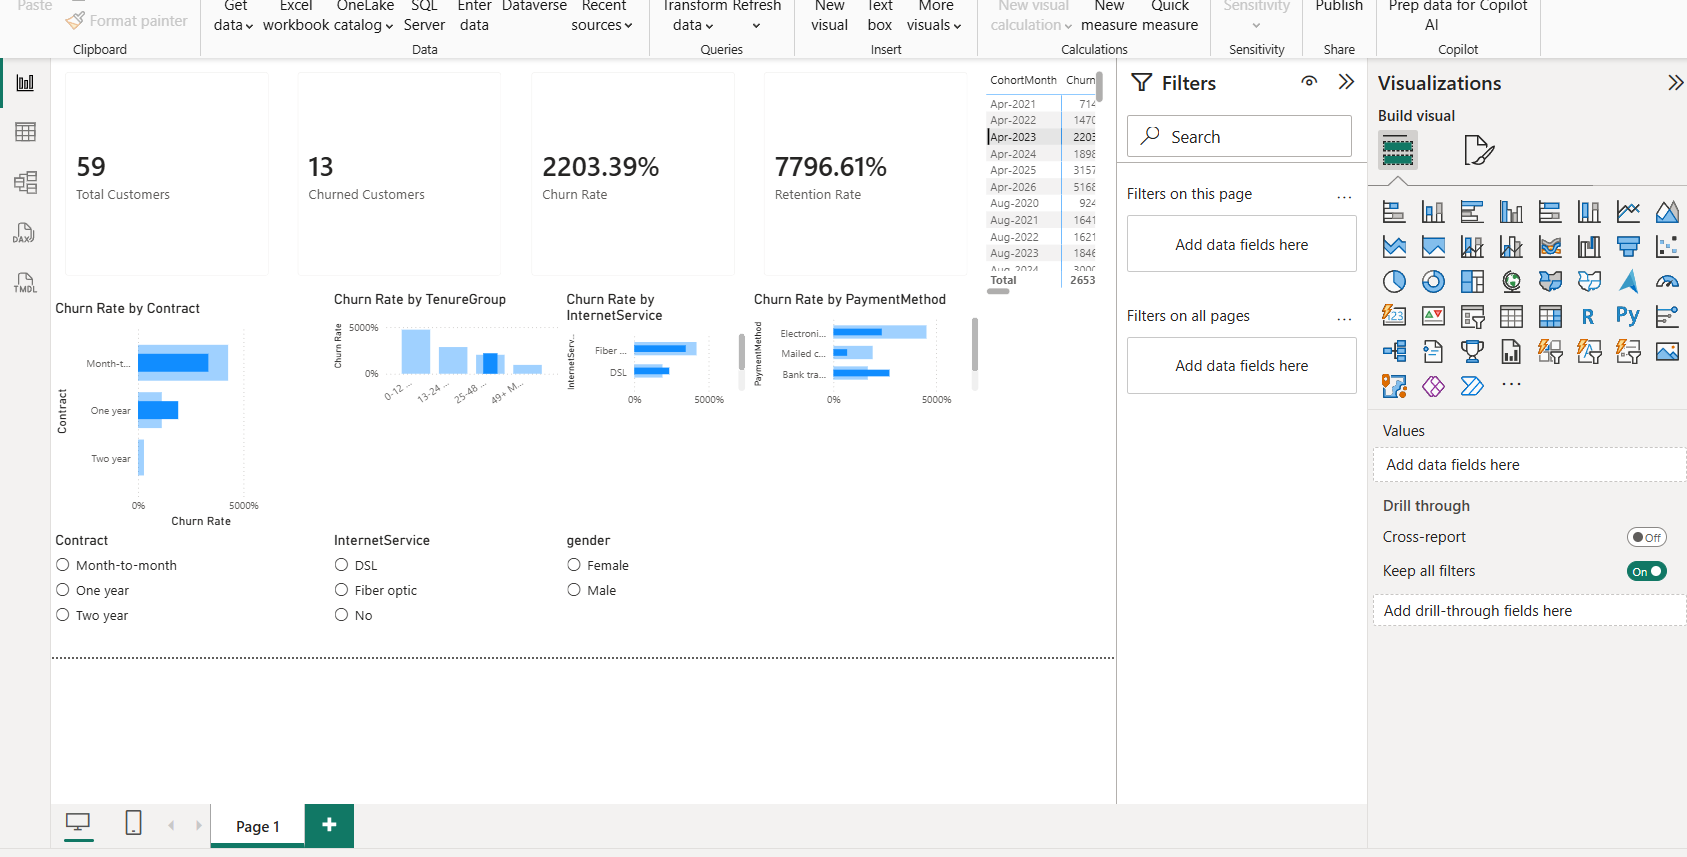

The page's visual inventory and layout, read from the dashboard file:
{"tool":"powerbi","page":{"name":"Page 1","canvas":[1280,720],"ordinal":0},"visuals":[{"type":"cardVisual","fields":{"Data":["TelcoChurn.Total Customers"]},"box":[0,0,279.9,279.9],"z":0},{"type":"cardVisual","fields":{"Data":["TelcoChurn.Churned Customers"]},"box":[332.1,0,281,279.5],"z":1000},{"type":"cardVisual","fields":{"Data":["TelcoChurn.Churn Rate"]},"box":[652.2,0,279.5,279.5],"z":2000},{"type":"cardVisual","fields":{"Data":["TelcoChurn.Retention Rate"]},"box":[1000.8,0,279.5,279.5],"z":3000},{"type":"clusteredBarChart","title":"Customers on Month-to-Month Contracts Churn Most","fields":{"Category":["TelcoChurn.Contract"],"Y":["TelcoChurn.Churn Rate"]},"box":[0,279.5,279.5,279.5],"z":4000},{"type":"clusteredColumnChart","title":"New Customers Have Higher Churn Rates","fields":{"Category":["TelcoChurn.TenureGroup"],"Y":["TelcoChurn.Churn Rate"]},"box":[333.6,318.6,279.5,150.3],"z":5000},{"type":"clusteredBarChart","title":"Fiber Optic Customers Show Higher Churn","fields":{"Category":["TelcoChurn.InternetService"],"Y":["TelcoChurn.Churn Rate"]},"box":[679.2,318.6,225.4,150.3],"z":6000},{"type":"clusteredBarChart","title":"Payment Method Impact on Customer Churn","fields":{"Y":["TelcoChurn.Churn Rate"],"Category":["TelcoChurn.PaymentMethod"]},"box":[1000.8,305,279.5,150.3],"z":7000},{"type":"pivotTable","fields":{"Rows":["TelcoChurn.CohortMonth"],"Values":["TelcoChurn.Churn Rate","TelcoChurn.Total Customers"]},"box":[1011.3,468.8,150.3,251],"z":8000},{"type":"listSlicer","fields":{"Values":["TelcoChurn.Contract"]},"box":[0,570,280,150],"z":9000},{"type":"listSlicer","fields":{"Values":["TelcoChurn.InternetService"]},"box":[335.1,569.5,279.5,150.3],"z":10000},{"type":"listSlicer","fields":{"Values":["TelcoChurn.gender"]},"box":[679.2,569.5,225.4,150.3],"z":11000}]}

Visuals, with their boxes on the page's 1280x720 design canvas (x1, y1, x2, y2). These are canvas units, not pixel positions in the 1687x857 screenshot, which may show the page scaled, cropped or inside an application window:
cardVisual - TelcoChurn.Total Customers: {"x1": 0, "y1": 0, "x2": 280, "y2": 280}
cardVisual - TelcoChurn.Churned Customers: {"x1": 332, "y1": 0, "x2": 613, "y2": 280}
cardVisual - TelcoChurn.Churn Rate: {"x1": 652, "y1": 0, "x2": 932, "y2": 280}
cardVisual - TelcoChurn.Retention Rate: {"x1": 1001, "y1": 0, "x2": 1280, "y2": 280}
"Customers on Month-to-Month Contracts Churn Most" clusteredBarChart: {"x1": 0, "y1": 280, "x2": 280, "y2": 559}
"New Customers Have Higher Churn Rates" clusteredColumnChart: {"x1": 334, "y1": 319, "x2": 613, "y2": 469}
"Fiber Optic Customers Show Higher Churn" clusteredBarChart: {"x1": 679, "y1": 319, "x2": 905, "y2": 469}
"Payment Method Impact on Customer Churn" clusteredBarChart: {"x1": 1001, "y1": 305, "x2": 1280, "y2": 455}
pivotTable - TelcoChurn.CohortMonth x TelcoChurn.Churn Rate: {"x1": 1011, "y1": 469, "x2": 1162, "y2": 720}
listSlicer - TelcoChurn.Contract: {"x1": 0, "y1": 570, "x2": 280, "y2": 720}
listSlicer - TelcoChurn.InternetService: {"x1": 335, "y1": 570, "x2": 615, "y2": 720}
listSlicer - TelcoChurn.gender: {"x1": 679, "y1": 570, "x2": 905, "y2": 720}
